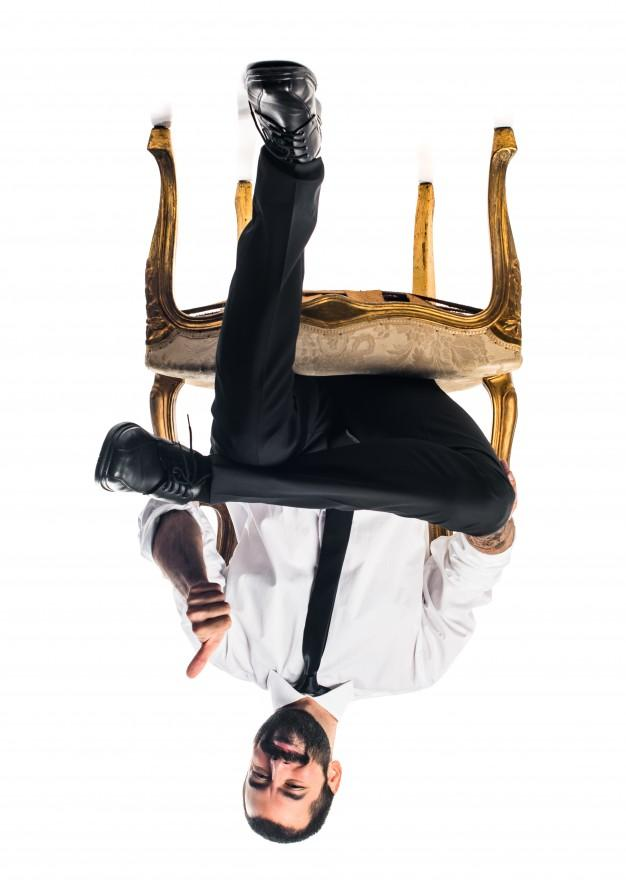thumbsdown: (186, 583, 232, 679)
